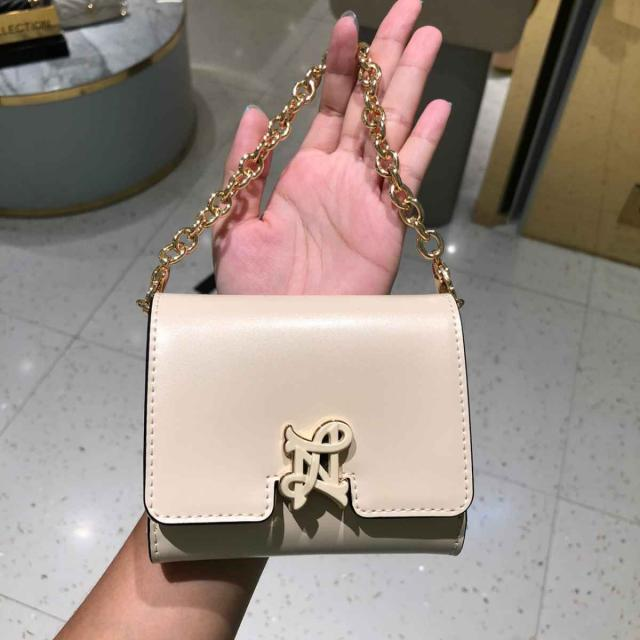handbag: (140, 278, 468, 562)
